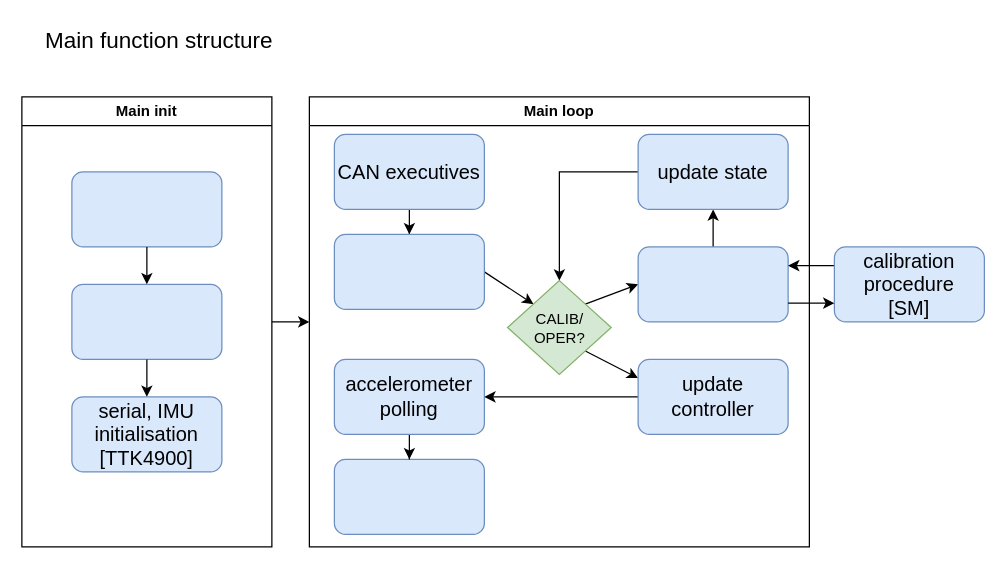
Some shapes in this 1006 by 569 pixel diagram are drawn without their labels. The centre of each missing label's shape, as x and y in pixels:
"ADC current draw update" goes at point (408, 496).
"calibrate joints" goes at point (712, 284).
"encoder count update" goes at point (408, 271).
"Peripheral functions start [HAL]" goes at point (146, 321).
"Peripheral initialisation [MX]" goes at point (146, 209).
